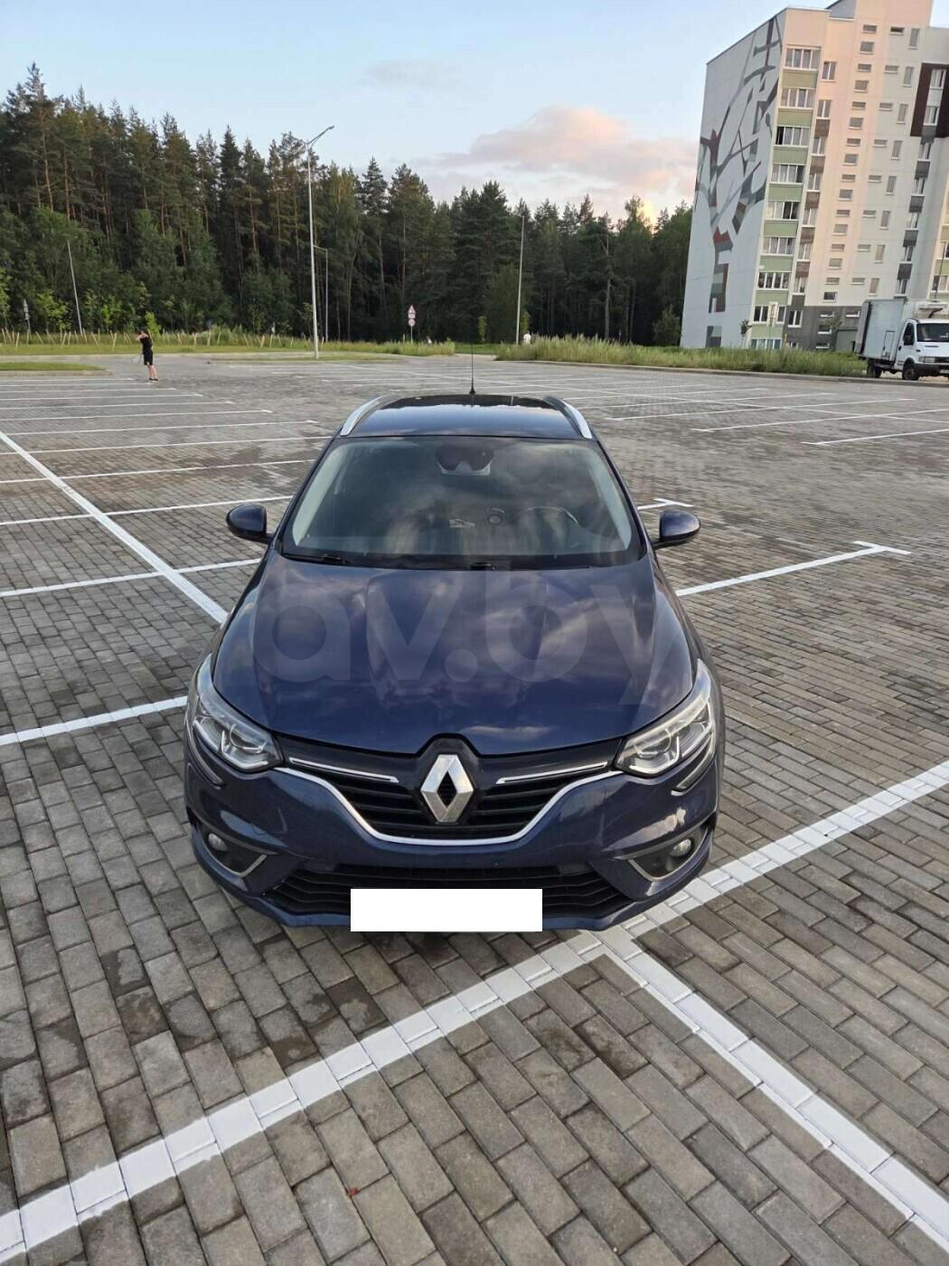Megane_2016-2020: (175, 385, 741, 937)
